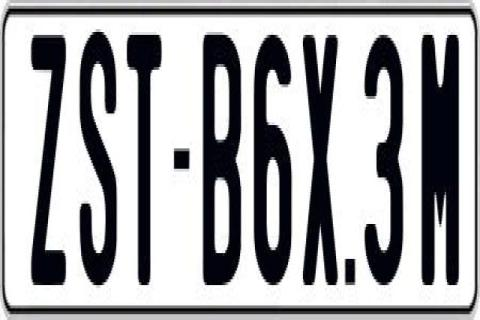0: (362, 29, 406, 288), (254, 29, 294, 279)
B: (202, 27, 248, 280)
M: (420, 29, 460, 291)
S: (76, 23, 114, 291)
T: (126, 29, 163, 294)
X: (302, 27, 340, 280)
Z: (30, 29, 69, 294)
